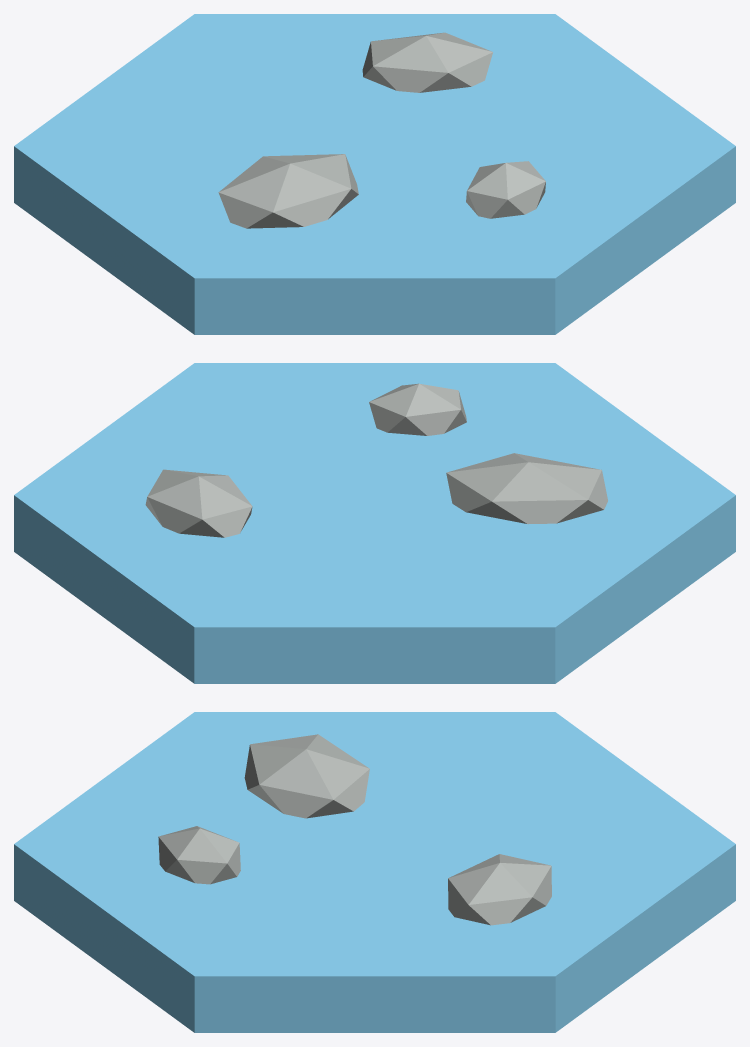
File: river-rocky.glb
3 renders of one model, top to bottom at view 1: azimuth 30°, elevation 25°; view 2: azimuth 150°, elevation 25°; view 3: azimuth 270°, elevation 25°, orthographic.
Visible parts, largest first — view 1: water, river-rock-1, river-rock-2, river-rock-3; view 2: water, river-rock-1, river-rock-2, river-rock-3; view 3: water, river-rock-1, river-rock-2, river-rock-3.
Boxes of the visible parts, x1=… form: water: x1=14, y1=14, x2=735, y2=334; river-rock-1: x1=218, y1=154, x2=358, y2=228; river-rock-2: x1=362, y1=32, x2=492, y2=92; river-rock-3: x1=466, y1=161, x2=545, y2=218; water: x1=14, y1=363, x2=735, y2=683; river-rock-1: x1=446, y1=453, x2=607, y2=524; river-rock-2: x1=145, y1=469, x2=252, y2=537; river-rock-3: x1=369, y1=383, x2=466, y2=435; water: x1=14, y1=712, x2=735, y2=1032; river-rock-1: x1=244, y1=734, x2=369, y2=818; river-rock-2: x1=448, y1=854, x2=551, y2=925; river-rock-3: x1=158, y1=826, x2=240, y2=884.
Bounding box in the file's own units: 1 × 0.165 × 1.15.
2 materials, 1 textured.
